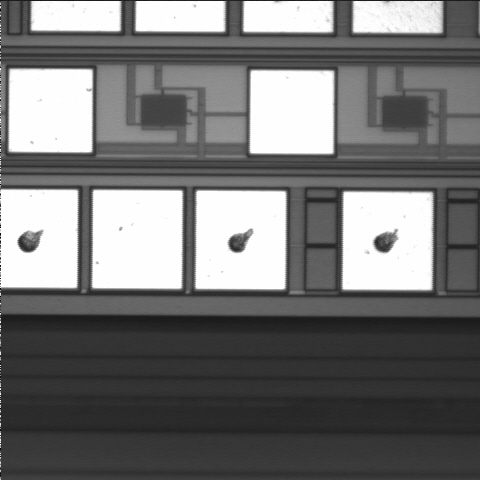pad: (92, 190, 182, 289), (196, 191, 286, 289), (343, 192, 432, 290), (250, 70, 334, 154), (9, 69, 92, 152)
